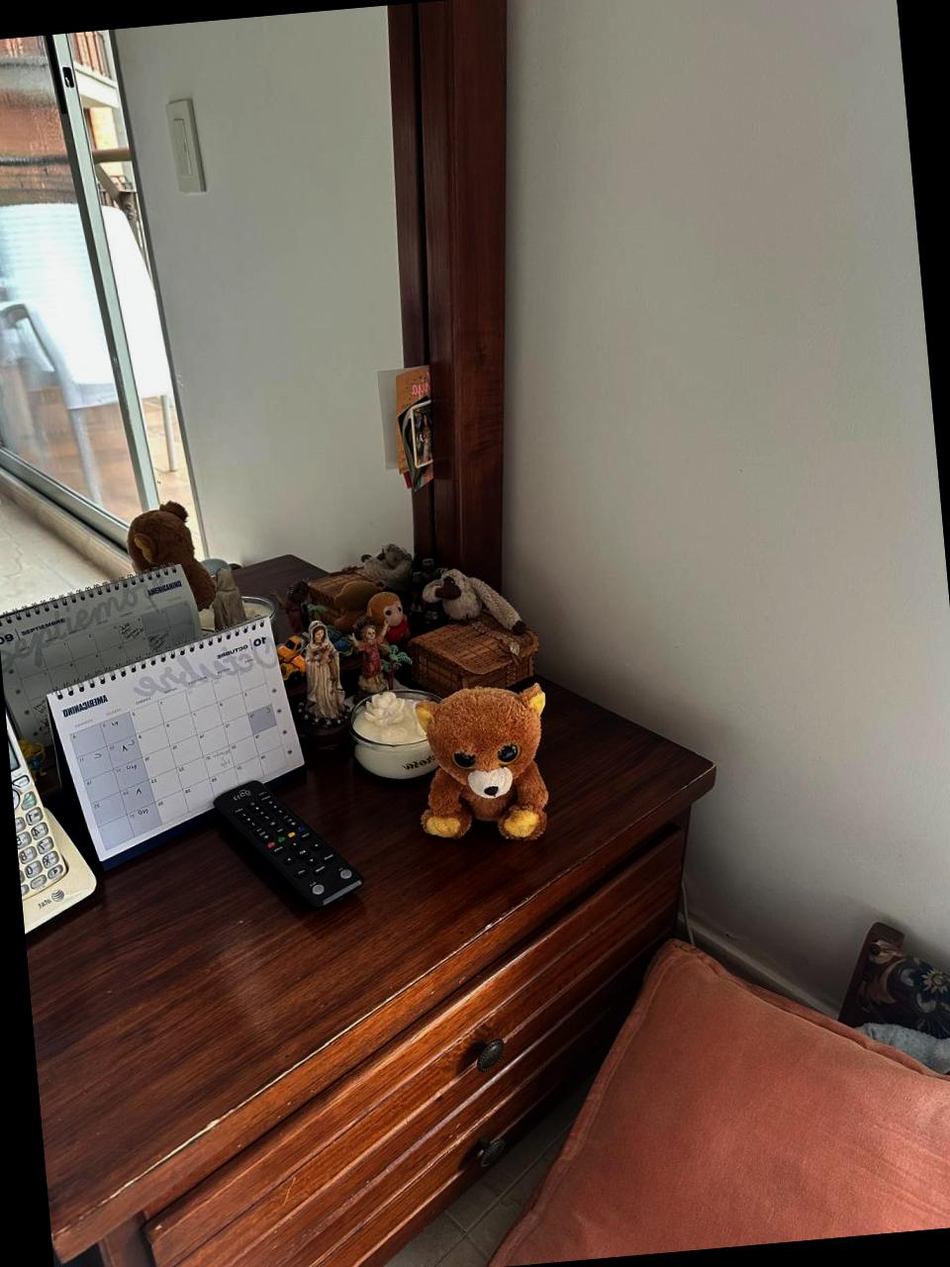peluche_sebastian: (405, 670, 562, 852)
